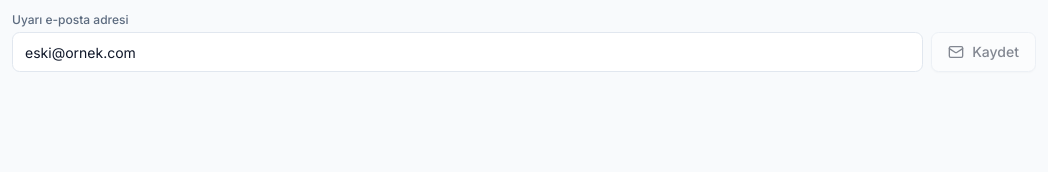
Test: uyarı adresi — kayıt sürerken yazılan korunur (X4) › 🚨 istek sürerken yazılan adres yerinde kalır ve kaydedilmemiş görünür
Replace the text in the field with id "alert-email" with "yeni@ornek.com" at (468, 52), box [12,32,923,72]
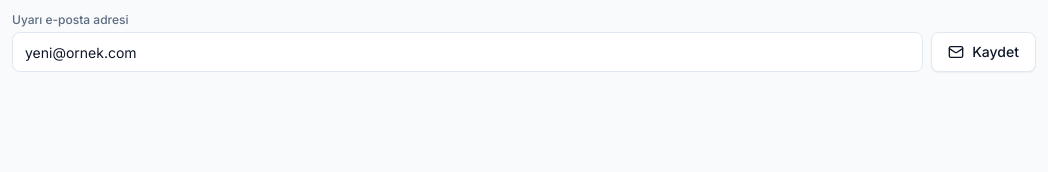
Click the button "Kaydet" at (984, 52), box [931,32,1036,72]
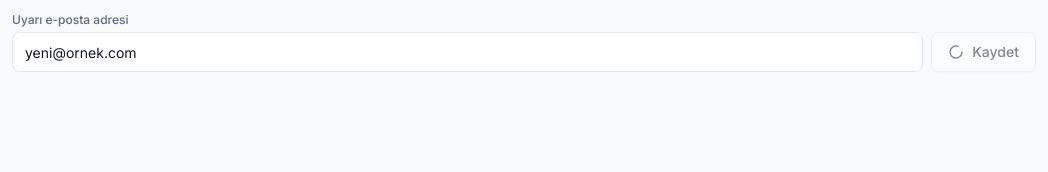
Replace the text in the field with id "alert-email" with "baska@ornek.com" at (468, 52), box [12,32,923,72]
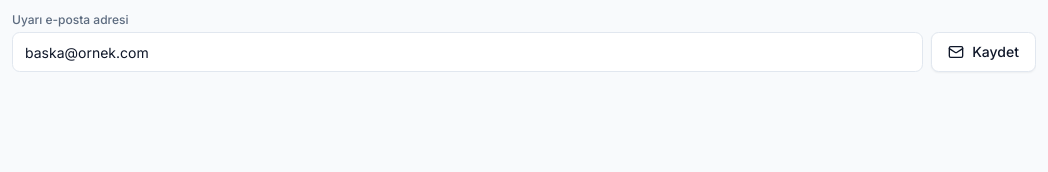
Expected: the button "Kaydet" is shown, [931,32,1036,72]
Expected: the button "Kaydet" is enabled, [931,32,1036,72]
